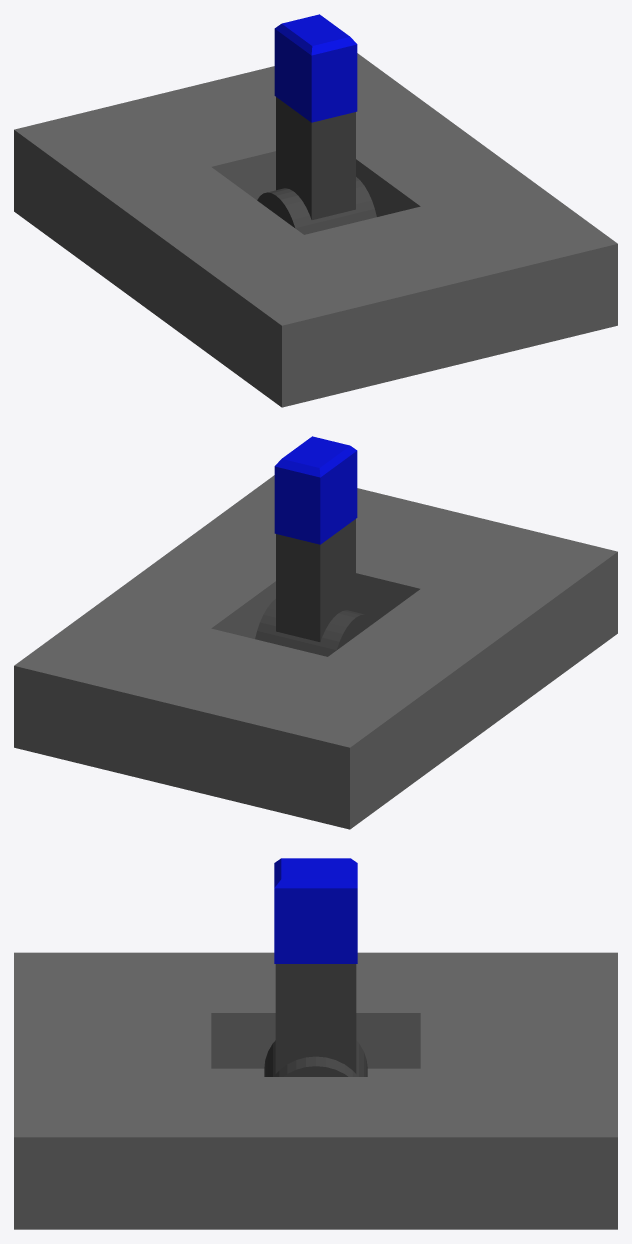
Rendered from BlueSwitch.glb.
The picture shows the model from 3 angles, top to bottom: view 1: azimuth 30°, elevation 25°; view 2: azimuth 150°, elevation 25°; view 3: azimuth 270°, elevation 25°; orthographic projection. The views are drawn at different scales.
Visible parts, largest first — view 1: Base, Switch, Cube; view 2: Base, Switch, Cube; view 3: Base, Switch, Cube.
Boxes of the visible parts, left/top/right/bottom form: Base: left=14, top=53, right=617, bottom=407; Switch: left=257, top=97, right=376, bottom=234; Cube: left=274, top=14, right=357, bottom=122; Base: left=14, top=475, right=617, bottom=829; Switch: left=255, top=519, right=374, bottom=656; Cube: left=274, top=436, right=357, bottom=544; Base: left=14, top=952, right=617, bottom=1229; Switch: left=264, top=964, right=367, bottom=1076; Cube: left=274, top=858, right=357, bottom=963.
Size of the model in its own units: 0.0463 by 0.0315 by 0.0639.
